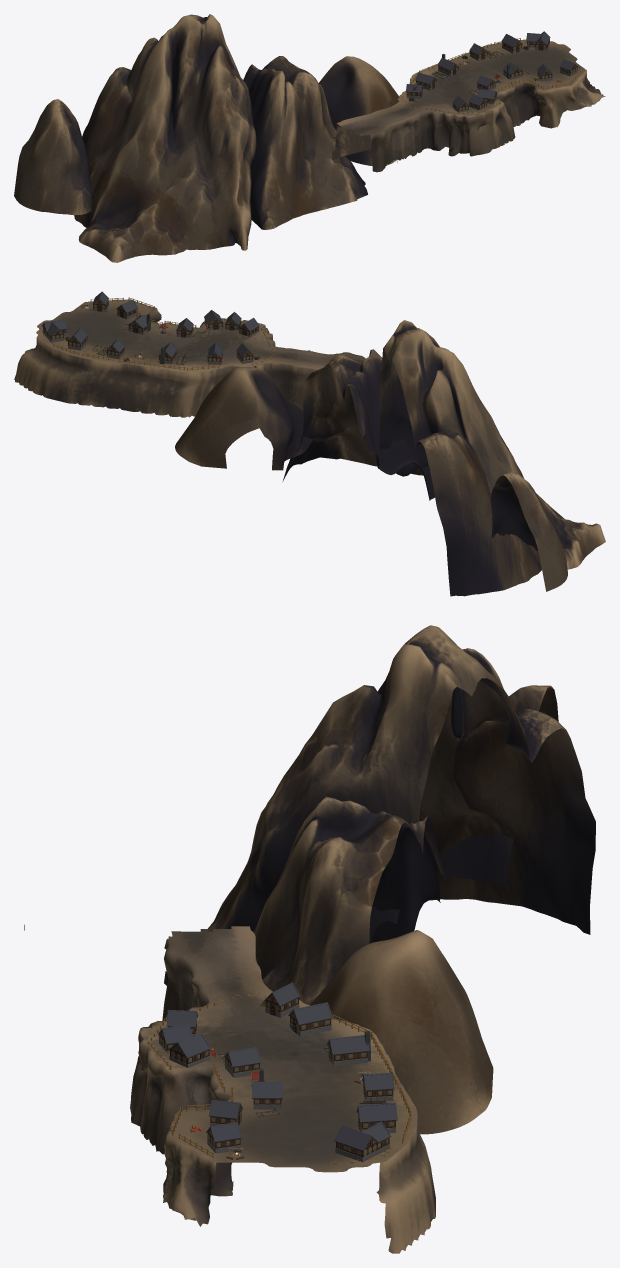
File: Level1_Zona2.fbx
3 views of the same model, one above another, from view 1: azimuth 30°, elevation 25°; view 2: azimuth 150°, elevation 25°; view 3: azimuth 270°, elevation 25° (orthographic). The views are drawn at different scales.
Parts seen in each view (by area): view 1: Mountains2_low, Mountains3_low, TerrenoLevel1_Zona2.004_level1, Mountains1_low, TerrenoLevel1_Zona2.003_level1, Mountains4_low, Casa2; view 2: Mountains2_low, TerrenoLevel1_Zona2.004_level1, Mountains3_low, Mountains4_low, Mountains1_low, TerrenoLevel1_Zona2.003_level1, Casa2; view 3: Mountains2_low, TerrenoLevel1_Zona2.004_level1, Mountains3_low, Mountains4_low, TerrenoLevel1_Zona2.003_level1, Mountains1_low, Casa2, House.007_level1, House.006_level1, House.011_level1, House.004_level1, House.015_level1 (+4 smaller).
Boxes of the visible parts, x1,y1,x2,y2 form: Mountains2_low: (74, 14, 256, 262); Mountains3_low: (243, 56, 367, 229); TerrenoLevel1_Zona2.004_level1: (396, 39, 605, 156); Mountains1_low: (14, 99, 92, 215); TerrenoLevel1_Zona2.003_level1: (332, 103, 428, 172); Mountains4_low: (319, 56, 399, 165); Casa2: (526, 31, 550, 50); Mountains2_low: (379, 320, 605, 596); TerrenoLevel1_Zona2.004_level1: (14, 299, 275, 417); Mountains3_low: (282, 349, 434, 500); Mountains4_low: (175, 366, 313, 470); Mountains1_low: (490, 472, 567, 591); TerrenoLevel1_Zona2.003_level1: (269, 345, 365, 409); Casa2: (41, 319, 67, 342); Mountains2_low: (207, 625, 595, 943); TerrenoLevel1_Zona2.004_level1: (130, 990, 435, 1253); Mountains3_low: (253, 796, 445, 1004); Mountains4_low: (309, 930, 493, 1134); TerrenoLevel1_Zona2.003_level1: (162, 926, 270, 1020); Mountains1_low: (438, 685, 558, 886); Casa2: (334, 1121, 391, 1162); House.007_level1: (288, 1002, 332, 1036); House.006_level1: (326, 1035, 369, 1066); House.011_level1: (168, 1033, 210, 1067); House.004_level1: (356, 1102, 397, 1133); House.015_level1: (206, 1122, 241, 1153).
Size of the model in its own units: 22393 by 7861 by 10948.
